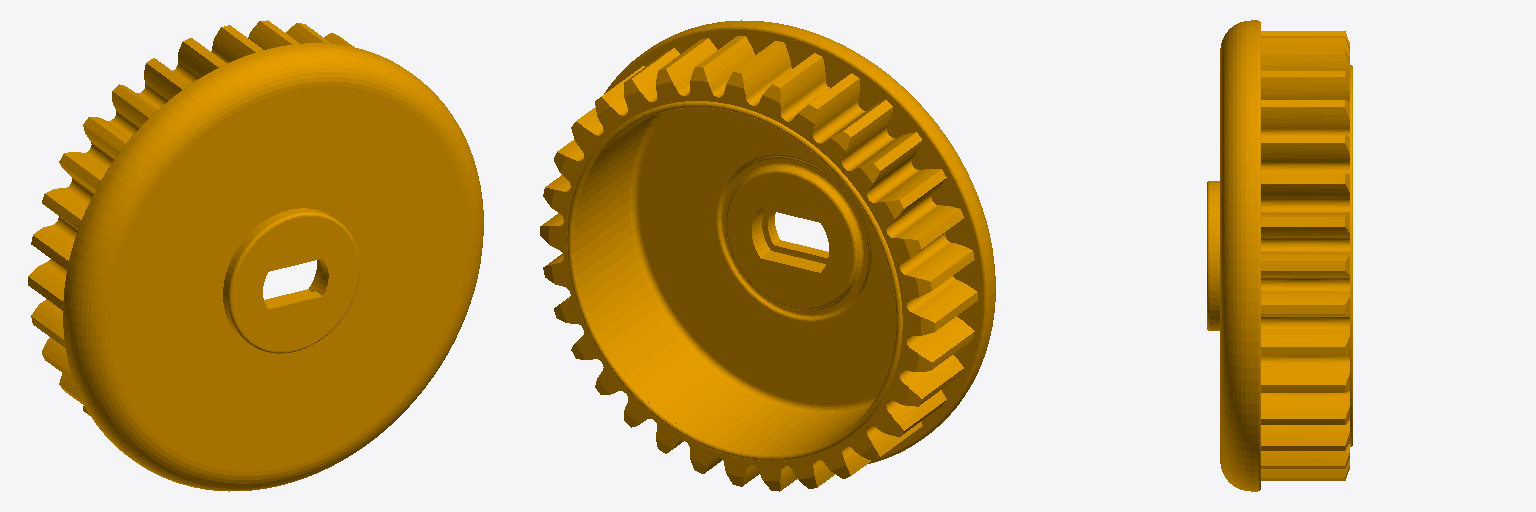
The robot description file, URDF, robot "gear_2_L0.60_T0.60":
<?xml version="1.0" encoding="utf-8"?>
<robot name="gear_2_L0.60_T0.60">
  <link name="gear_2_L0.60_T0.60Link">
    <contact>
      <lateral_friction value="1"/>
    </contact>
    <inertial>
      <origin rpy="0 0 0" xyz="0 0 0"/>
      <mass value="0.0"/>
      <inertia ixx="0" ixy="0" ixz="0" iyy="0" iyz="0" izz="0"/>
    </inertial>
    <visual>
      <origin rpy="0 0 0" xyz="0 0 0"/>
      <geometry>
        <mesh filename="generated_stl/gear/gear_2/gear_2_L0.60_T0.60/gear_2_L0.60_T0.60.stl" scale="0.01 0.01 0.01"/>
      </geometry>
    </visual>
    <collision>
      <origin rpy="0 0 0" xyz="0 0 0"/>
      <geometry>
        <mesh filename="generated_stl/gear/gear_2/gear_2_L0.60_T0.60/gear_2_L0.60_T0.60.stl" scale="0.01 0.01 0.01"/>
      </geometry>
    </collision>
  </link>
</robot>

--- Render facts (derived) ---
Views: 3 orthographic renders of the robot side by side, from view 1: azimuth 30°, elevation 25°; view 2: azimuth 150°, elevation 25°; view 3: azimuth 270°, elevation 25°.
Model gear_2_L0.60_T0.60 with 1 links and 0 joints (none), rooted at gear_2_L0.60_T0.60Link, posed all joints at 0.
Visible links, largest first — view 1: gear_2_L0.60_T0.60Link; view 2: gear_2_L0.60_T0.60Link; view 3: gear_2_L0.60_T0.60Link.
Link boxes in pixels (left/top/right/bottom): gear_2_L0.60_T0.60Link: left=28, top=20, right=483, bottom=491; gear_2_L0.60_T0.60Link: left=540, top=20, right=995, bottom=491; gear_2_L0.60_T0.60Link: left=1207, top=20, right=1352, bottom=491.
Size in the robot's own frame: 0.03 by 0.0093 by 0.03 metres.
1 mesh visuals loaded from 1 distinct referenced files (1 binary STL).